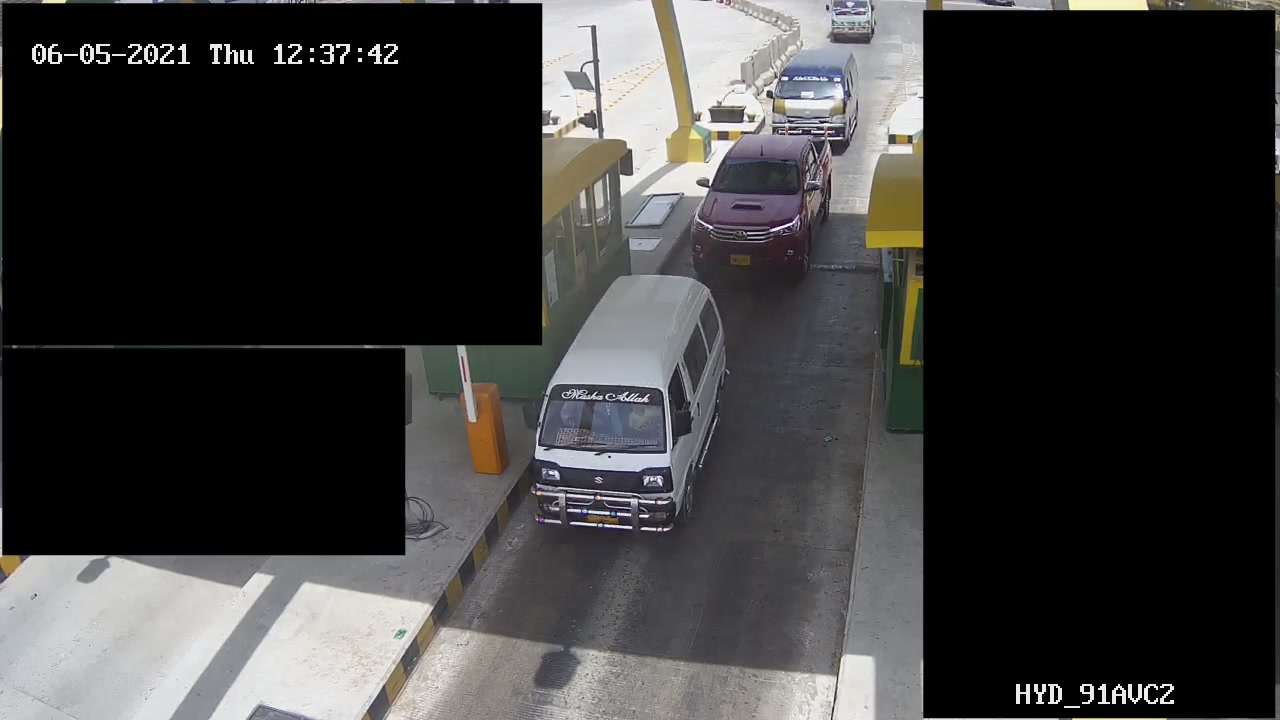F1: (532, 263, 731, 545)
